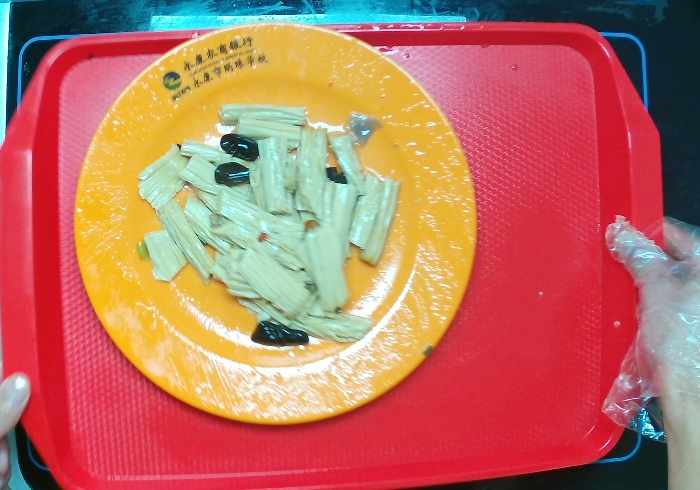YKMZ-Ju_Se_Mian_Pan: (66, 15, 493, 438)
